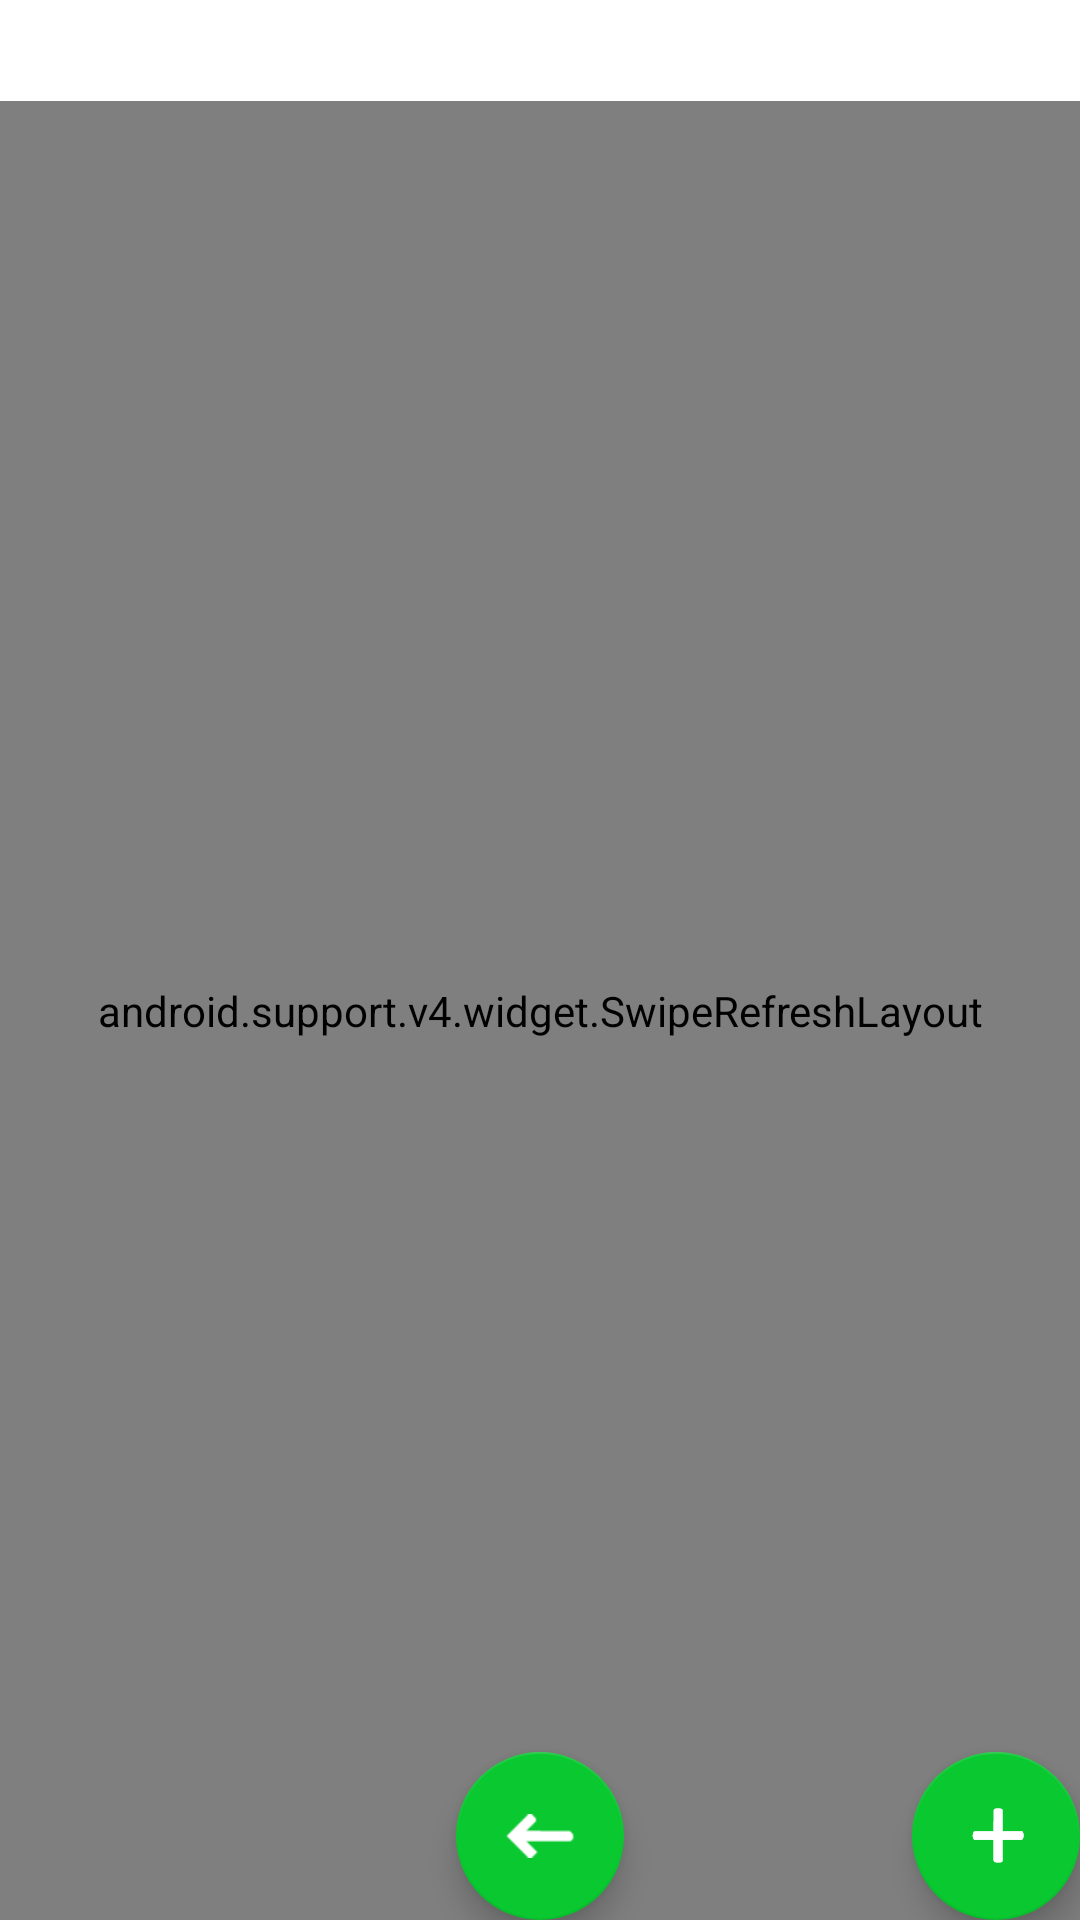

Where to tap for icons on this 1080×1920 app screen, as point (x, y):
sback: point (540, 1836)
splus: point (996, 1836)
